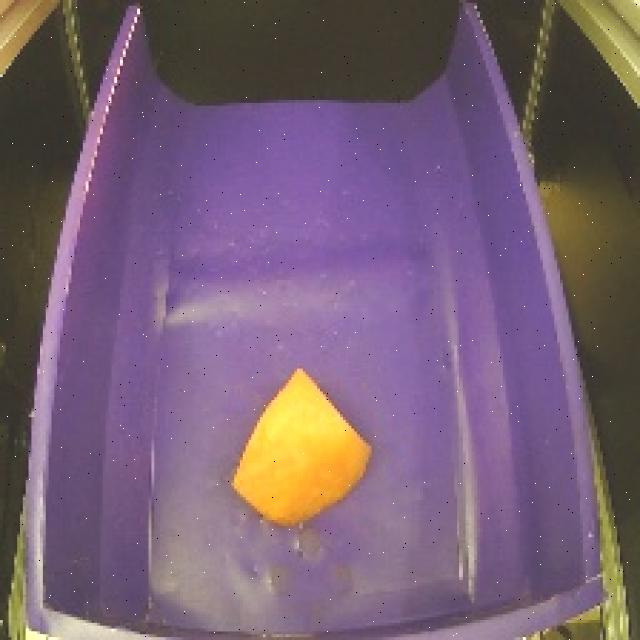carrots: (222, 357, 380, 532)
